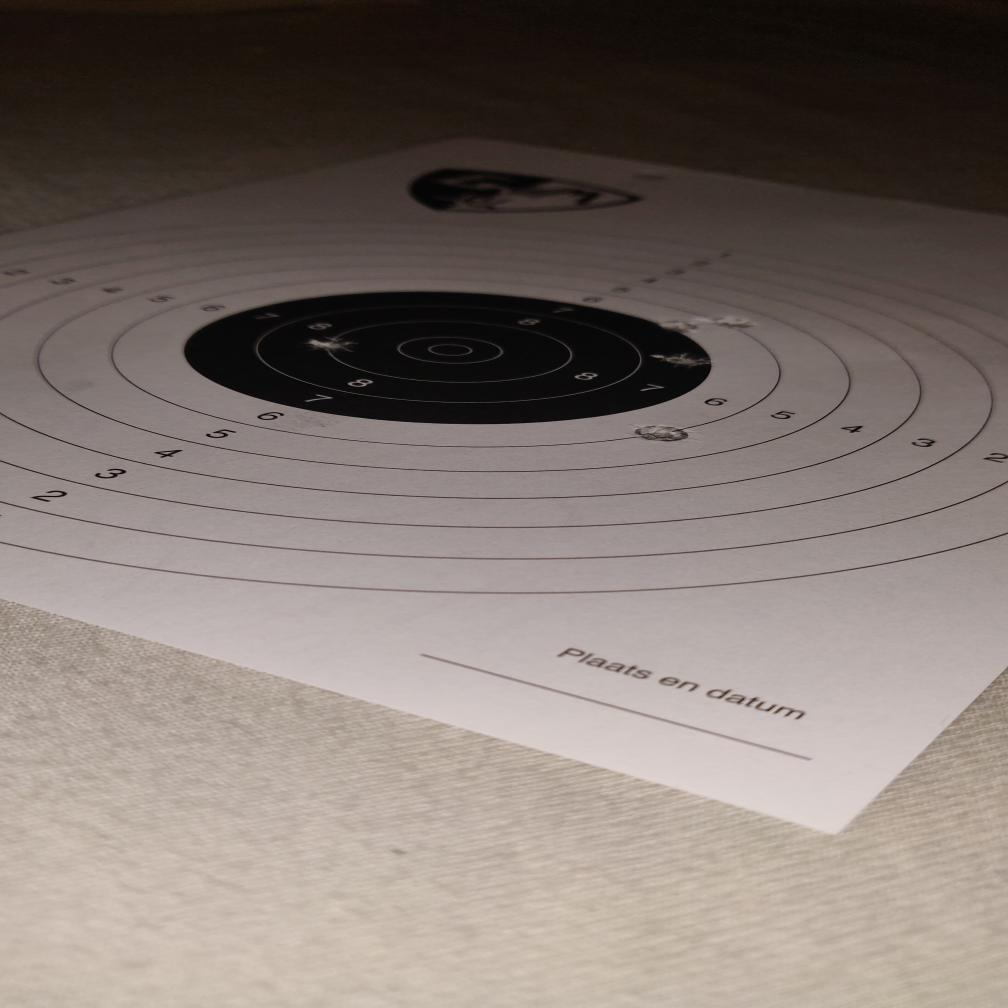6: (629, 420, 693, 444), (711, 308, 761, 334)
7: (651, 347, 715, 371), (654, 315, 706, 335)
9: (308, 332, 354, 354)
Target: (0, 216, 1008, 590)
black_contour: (183, 288, 711, 427)
